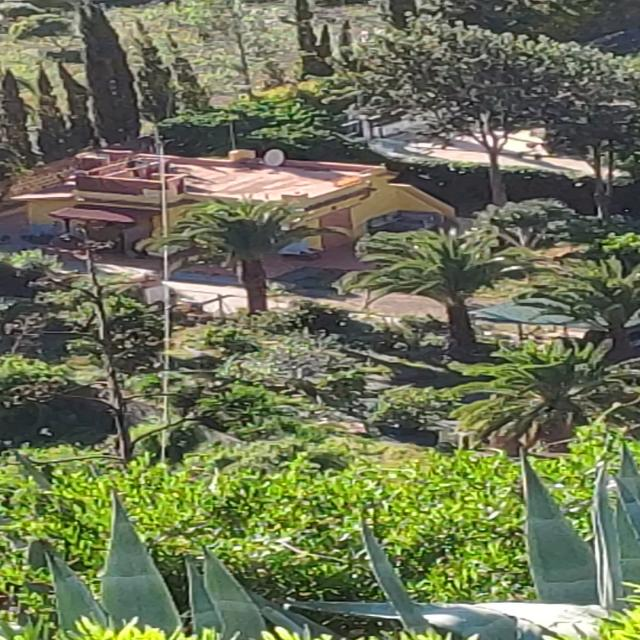Palm-Trees: (373, 233, 541, 355), (180, 195, 328, 323)
